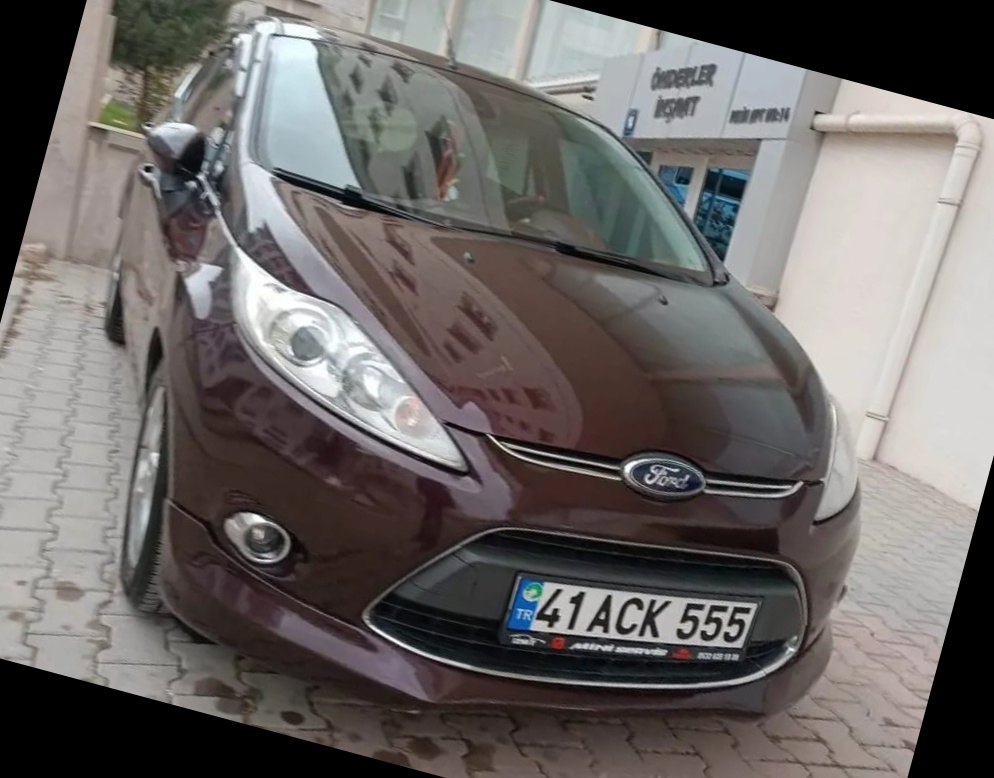plaka: (528, 575, 764, 650)
